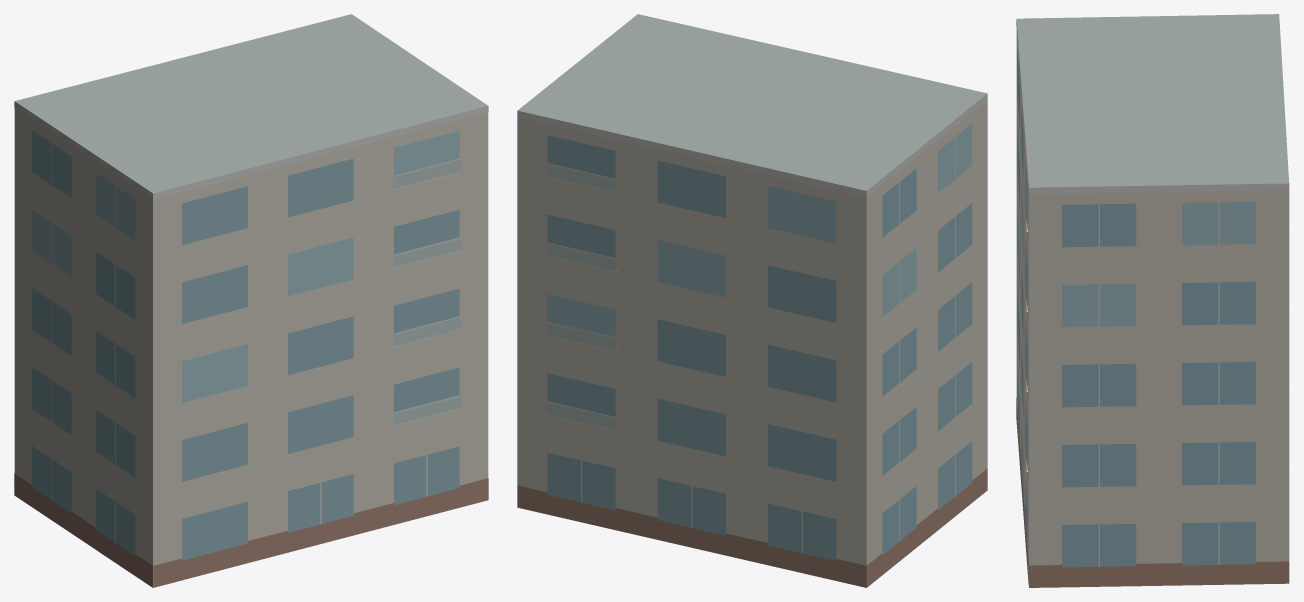
The model's file is survey-upis-32583412.glb.
3 renders of one model, left to right at view 1: azimuth 30°, elevation 25°; view 2: azimuth 150°, elevation 25°; view 3: azimuth 270°, elevation 25°, orthographic.
Parts seen in each view (by area): view 1: survey-upis-32583412.tmp; view 2: survey-upis-32583412.tmp; view 3: survey-upis-32583412.tmp.
Boxes of the visible parts, x1=… form: survey-upis-32583412.tmp: x1=14, y1=14, x2=488, y2=587; survey-upis-32583412.tmp: x1=517, y1=14, x2=987, y2=587; survey-upis-32583412.tmp: x1=1016, y1=14, x2=1289, y2=587.
Bounding box in the file's own units: 13.78 × 14.8 × 9.15.
